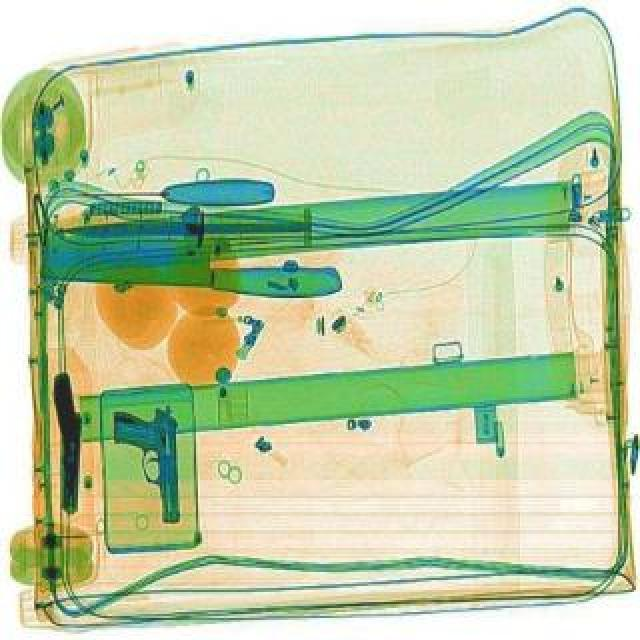gun: (110, 404, 182, 522), (50, 370, 86, 514)
knife: (38, 228, 342, 298), (44, 178, 272, 208), (62, 216, 306, 236)
